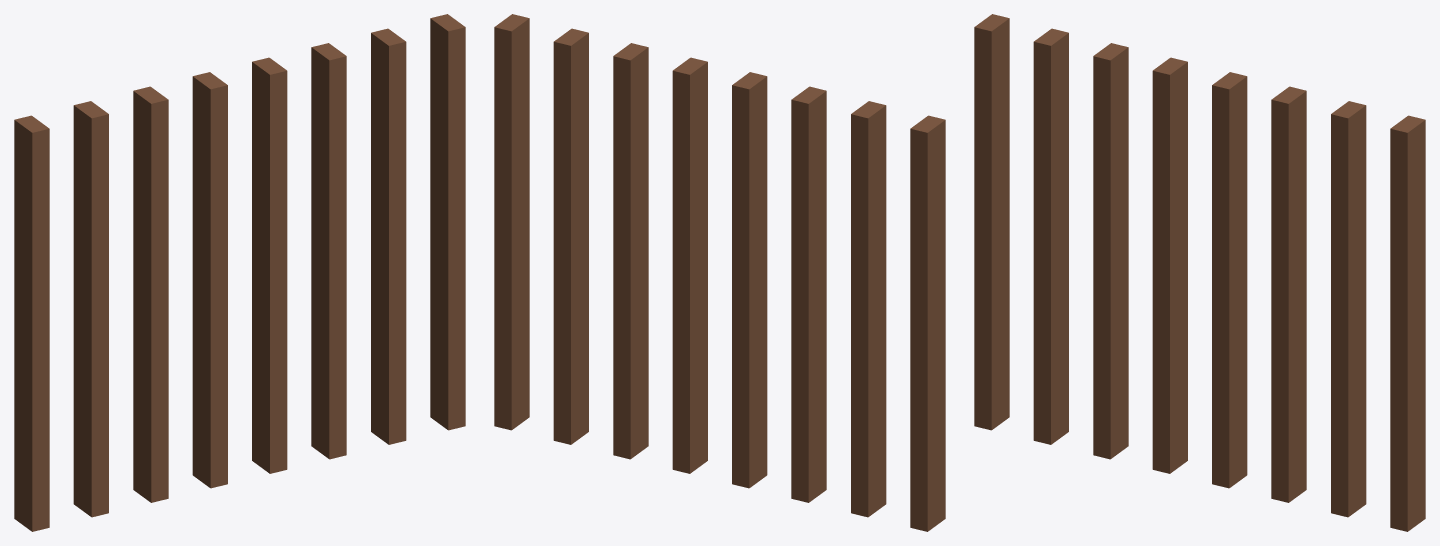
Rendered from bh_traditional_ac_screen_01_lod0.glb.
3 views of the same model, side by side, from view 1: azimuth 30°, elevation 25°; view 2: azimuth 150°, elevation 25°; view 3: azimuth 330°, elevation 25° (orthographic).
Parts seen in each view (by area): view 1: bh_traditional_ac_screen_01_slat_02, bh_traditional_ac_screen_01_slat_05, bh_traditional_ac_screen_01_slat_00, bh_traditional_ac_screen_01_slat_07, bh_traditional_ac_screen_01_slat_01, bh_traditional_ac_screen_01_slat_06, bh_traditional_ac_screen_01_slat_03, bh_traditional_ac_screen_01_slat_04; view 2: bh_traditional_ac_screen_01_slat_02, bh_traditional_ac_screen_01_slat_05, bh_traditional_ac_screen_01_slat_00, bh_traditional_ac_screen_01_slat_07, bh_traditional_ac_screen_01_slat_01, bh_traditional_ac_screen_01_slat_06, bh_traditional_ac_screen_01_slat_03, bh_traditional_ac_screen_01_slat_04; view 3: bh_traditional_ac_screen_01_slat_02, bh_traditional_ac_screen_01_slat_05, bh_traditional_ac_screen_01_slat_00, bh_traditional_ac_screen_01_slat_07, bh_traditional_ac_screen_01_slat_01, bh_traditional_ac_screen_01_slat_06, bh_traditional_ac_screen_01_slat_03, bh_traditional_ac_screen_01_slat_04.
Boxes of the visible parts, box(x1,y1,x2,y2) form: bh_traditional_ac_screen_01_slat_02: box(133, 86, 168, 502); bh_traditional_ac_screen_01_slat_05: box(311, 43, 346, 459); bh_traditional_ac_screen_01_slat_00: box(14, 115, 49, 531); bh_traditional_ac_screen_01_slat_07: box(430, 14, 465, 430); bh_traditional_ac_screen_01_slat_01: box(73, 101, 108, 517); bh_traditional_ac_screen_01_slat_06: box(371, 28, 406, 444); bh_traditional_ac_screen_01_slat_03: box(192, 72, 227, 488); bh_traditional_ac_screen_01_slat_04: box(252, 57, 287, 473); bh_traditional_ac_screen_01_slat_02: box(791, 86, 826, 502); bh_traditional_ac_screen_01_slat_05: box(613, 43, 648, 459); bh_traditional_ac_screen_01_slat_00: box(910, 115, 945, 531); bh_traditional_ac_screen_01_slat_07: box(494, 14, 529, 430); bh_traditional_ac_screen_01_slat_01: box(851, 101, 886, 517); bh_traditional_ac_screen_01_slat_06: box(553, 28, 588, 444); bh_traditional_ac_screen_01_slat_03: box(732, 72, 767, 488); bh_traditional_ac_screen_01_slat_04: box(672, 57, 707, 473); bh_traditional_ac_screen_01_slat_02: box(1093, 43, 1128, 459); bh_traditional_ac_screen_01_slat_05: box(1271, 86, 1306, 502); bh_traditional_ac_screen_01_slat_00: box(974, 14, 1009, 430); bh_traditional_ac_screen_01_slat_07: box(1390, 115, 1425, 531); bh_traditional_ac_screen_01_slat_01: box(1033, 28, 1068, 444); bh_traditional_ac_screen_01_slat_06: box(1331, 101, 1366, 517); bh_traditional_ac_screen_01_slat_03: box(1152, 57, 1187, 473); bh_traditional_ac_screen_01_slat_04: box(1212, 72, 1247, 488).
Bounding box in the file's own units: 2.5 × 2.2 × 0.18.
